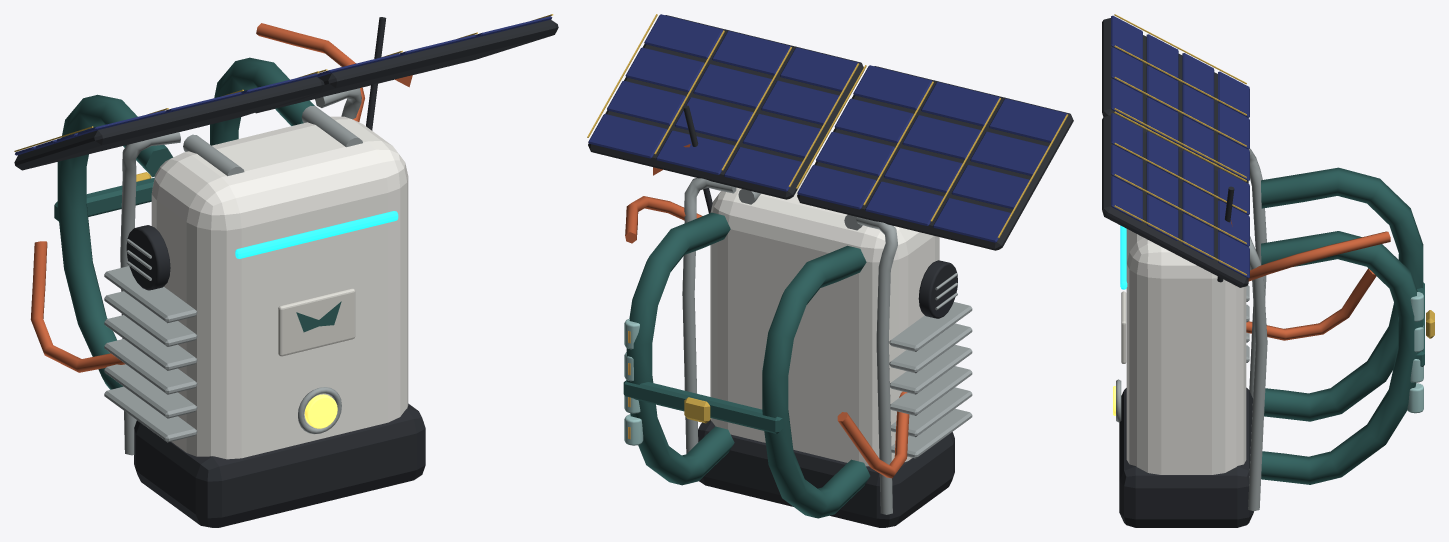
Rendered from prop_backpack_rig.glb.
3 views of the same model, side by side, from view 1: azimuth 30°, elevation 25°; view 2: azimuth 150°, elevation 25°; view 3: azimuth 270°, elevation 25° (orthographic). The views are drawn at different scales.
Visible parts, largest first — view 1: prop_backpack_rig_mesh, solar_flap_mesh, solar_flap.001_mesh; view 2: prop_backpack_rig_mesh, solar_flap_mesh, solar_flap.001_mesh; view 3: prop_backpack_rig_mesh, solar_flap.001_mesh, solar_flap_mesh.
Part boxes in pixels (left/top/right/bottom): prop_backpack_rig_mesh: left=30, top=17, right=425, bottom=527; solar_flap_mesh: left=14, top=71, right=324, bottom=170; solar_flap.001_mesh: left=255, top=14, right=558, bottom=113; prop_backpack_rig_mesh: left=623, top=105, right=972, bottom=527; solar_flap_mesh: left=796, top=65, right=1073, bottom=250; solar_flap.001_mesh: left=587, top=14, right=863, bottom=199; prop_backpack_rig_mesh: left=1113, top=148, right=1434, bottom=527; solar_flap.001_mesh: left=1102, top=111, right=1249, bottom=287; solar_flap_mesh: left=1102, top=14, right=1249, bottom=183.
Bounding box in the file's own units: 0.61 × 0.5568 × 0.445.
